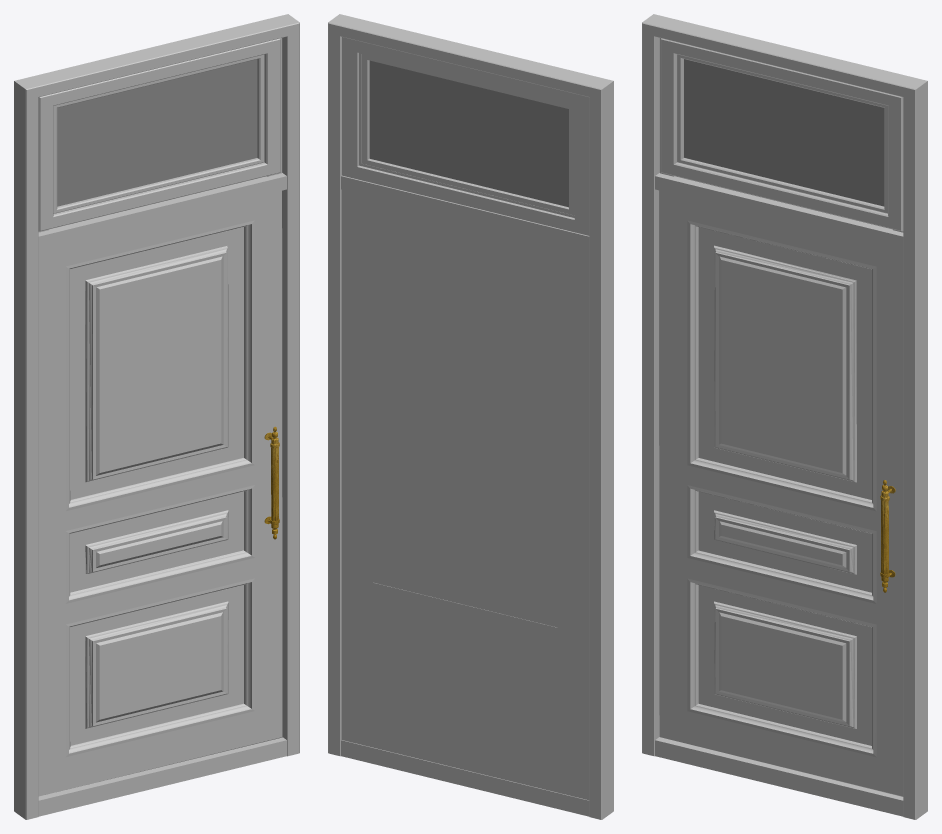
Rendered from Door 2.FBX.
3 views of the same model, side by side, from view 1: azimuth 30°, elevation 25°; view 2: azimuth 150°, elevation 25°; view 3: azimuth 330°, elevation 25° (orthographic).
Visible parts, largest first — view 1: Door, frame; view 2: Door, frame; view 3: Door, frame.
Part boxes in pixels (bbox=[...]): Door: bbox=[38, 190, 282, 796]; frame: bbox=[14, 14, 299, 819]; Door: bbox=[341, 189, 589, 800]; frame: bbox=[328, 14, 613, 819]; Door: bbox=[659, 190, 903, 796]; frame: bbox=[642, 14, 927, 819].
Bounding box in the file's own units: 119 × 302 × 12.78.
